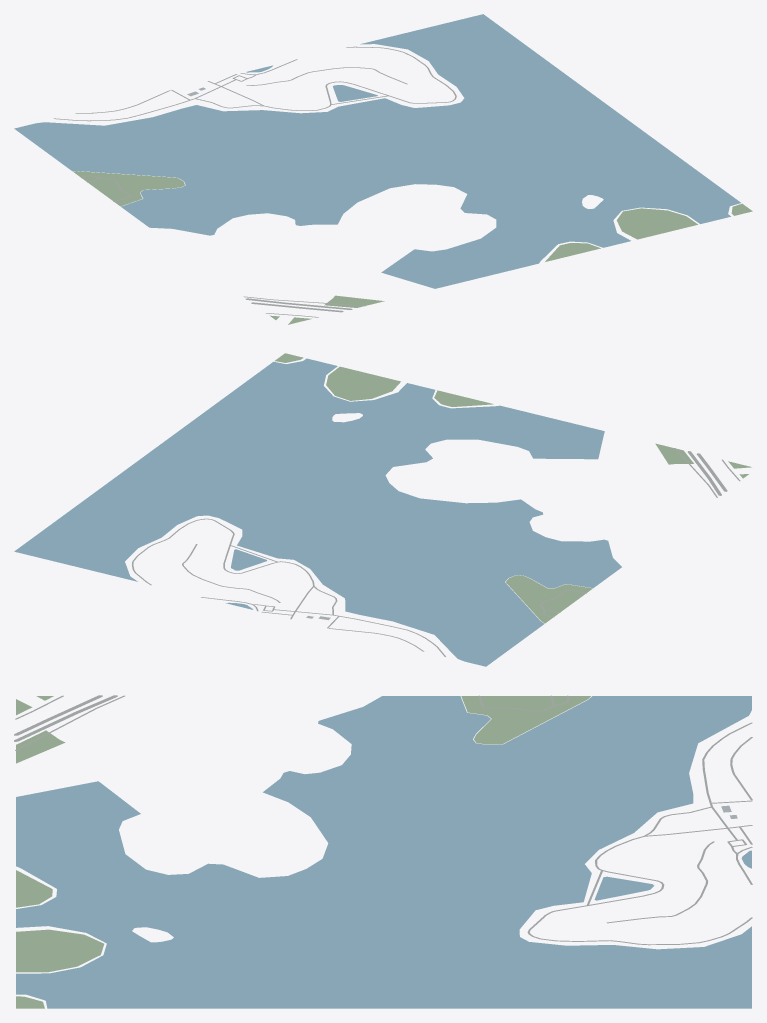
File: -9_7-known-coarse.glb
3 renders of one model, top to bottom at view 1: azimuth 30°, elevation 25°; view 2: azimuth 150°, elevation 25°; view 3: azimuth 270°, elevation 25°, orthographic. The views are drawn at different scales.
Size of the model in its own units: 1003 by 0.15 by 999.
